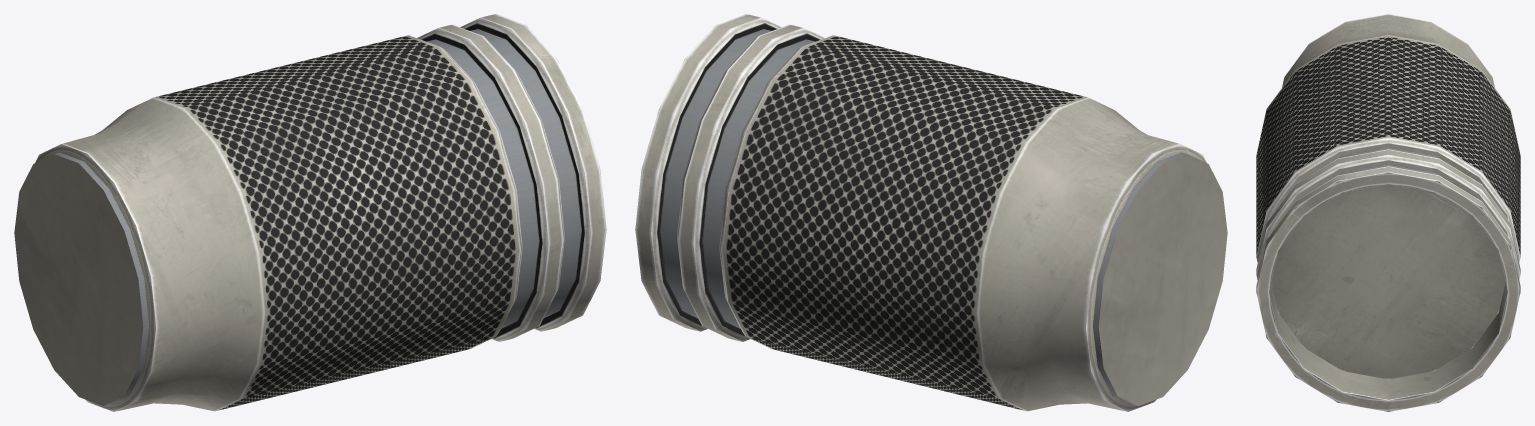
File: guard_15_c_d.glb
3 views of the same model, side by side, from view 1: azimuth 30°, elevation 25°; view 2: azimuth 150°, elevation 25°; view 3: azimuth 270°, elevation 25° (orthographic). The views are drawn at different scales.
Visible parts, largest first — view 1: guard_15_c_d_lod0; view 2: guard_15_c_d_lod0; view 3: guard_15_c_d_lod0.
Boxes of the visible parts, x1=… form: guard_15_c_d_lod0: x1=14, y1=14, x2=606, y2=411; guard_15_c_d_lod0: x1=635, y1=14, x2=1227, y2=411; guard_15_c_d_lod0: x1=1256, y1=14, x2=1520, y2=411.
Size of what is drawn, in the model's own units: 0.0569 by 0.0354 by 0.0354.
1 material, 1 textured.
